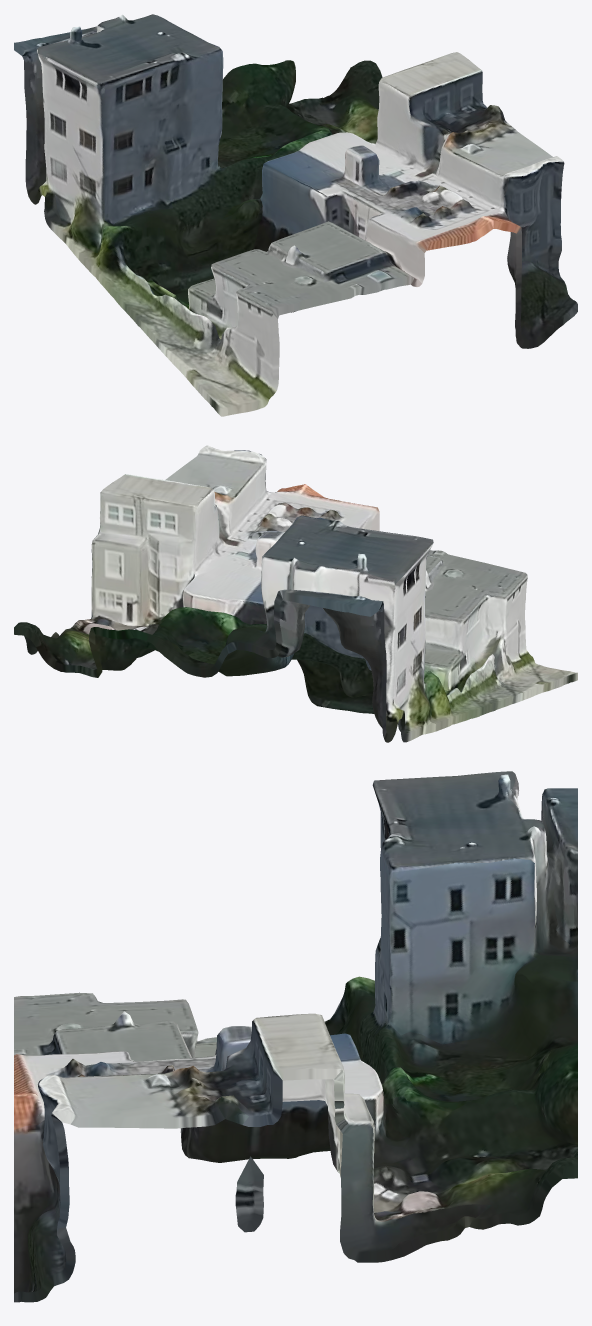
The model's file is z20-167723-405194-h0-yup-uvflip-v3-world.glb.
The picture shows the model from 3 angles, top to bottom: view 1: azimuth 30°, elevation 25°; view 2: azimuth 150°, elevation 25°; view 3: azimuth 270°, elevation 25°; orthographic projection. The views are drawn at different scales.
Bounding box in the file's own units: 30.16 × 20.68 × 30.32.
Materials: 1 (1 with a texture image).
